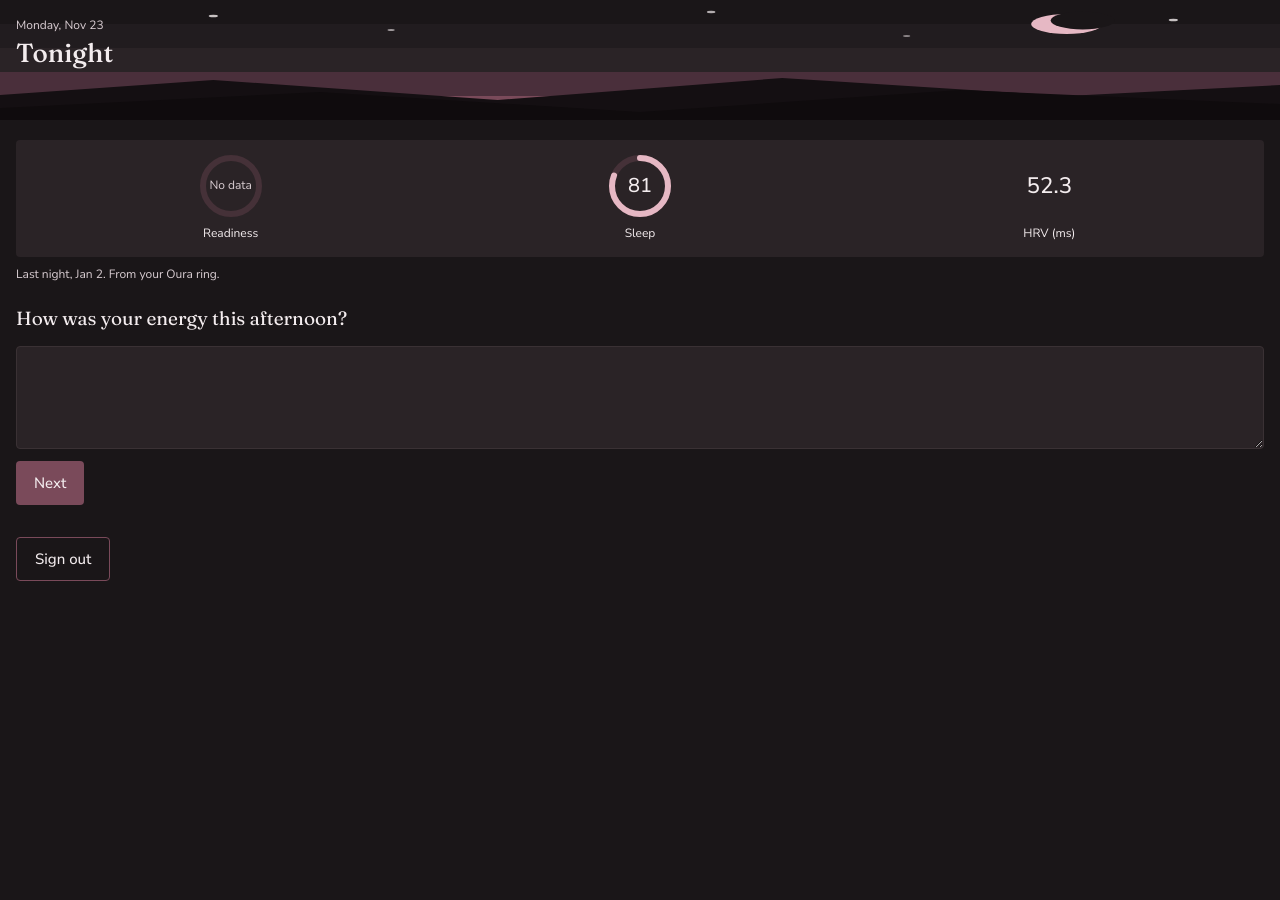
it: Tonight › tags › hides Suggest tags when off and says so
Step 1. Type "Flat until a 3pm espresso" into the text box labelled "How was your energy this afternoon?" → [640, 397], box left=16, top=346, right=1264, bottom=449
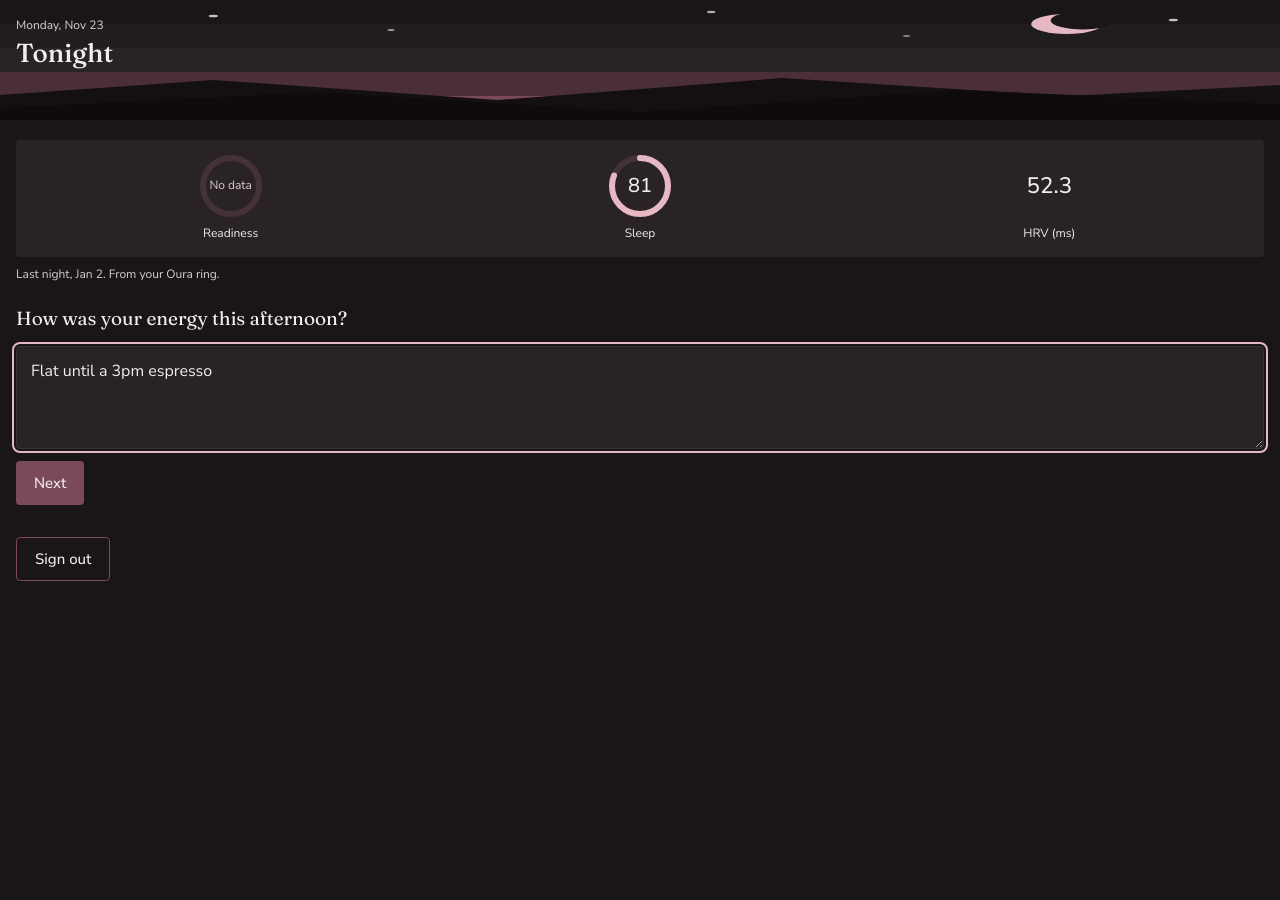
Step 2. Click the button "Next" → [50, 483], box left=16, top=461, right=84, bottom=505
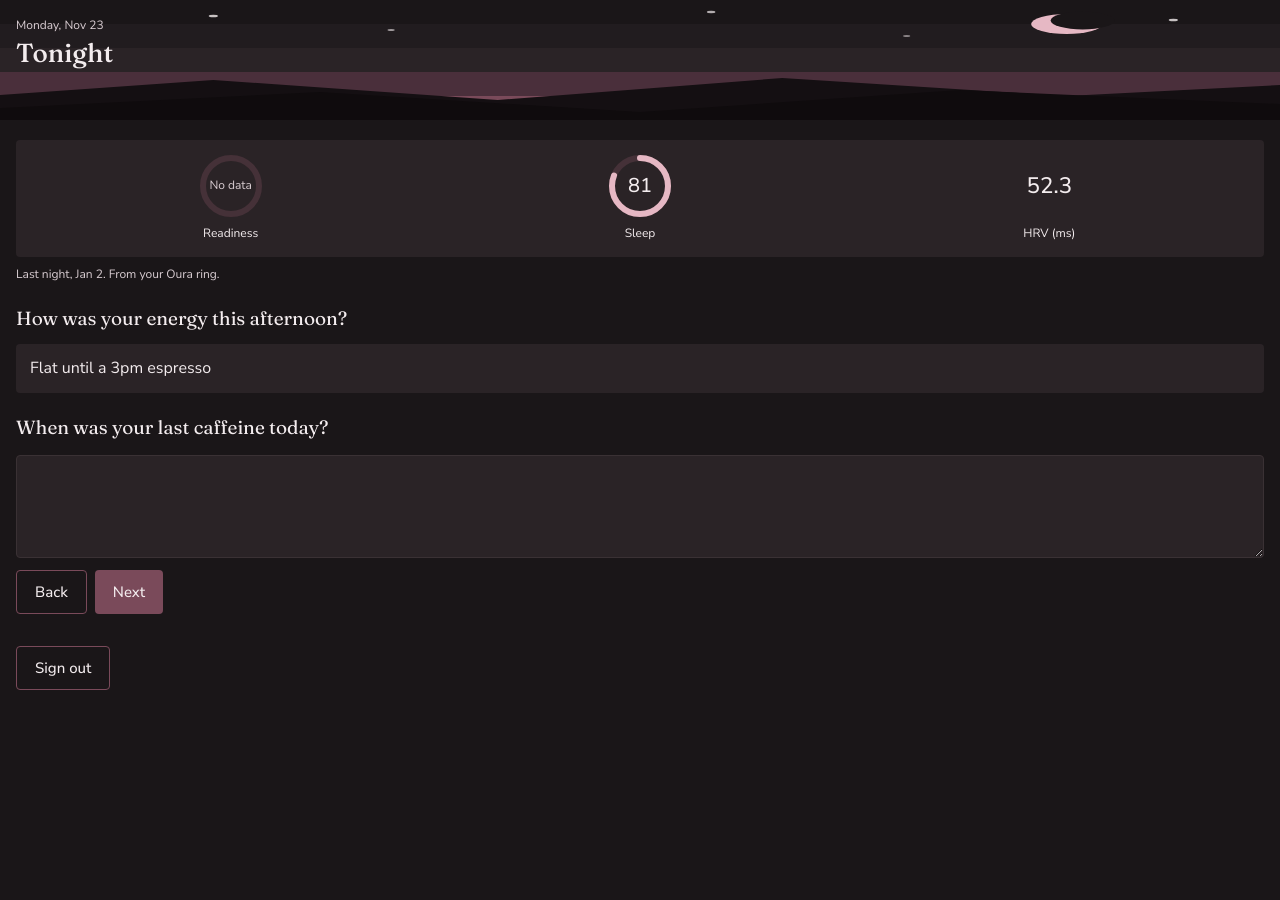
Step 3. Click the button "Next" → [129, 592], box left=95, top=570, right=163, bottom=614
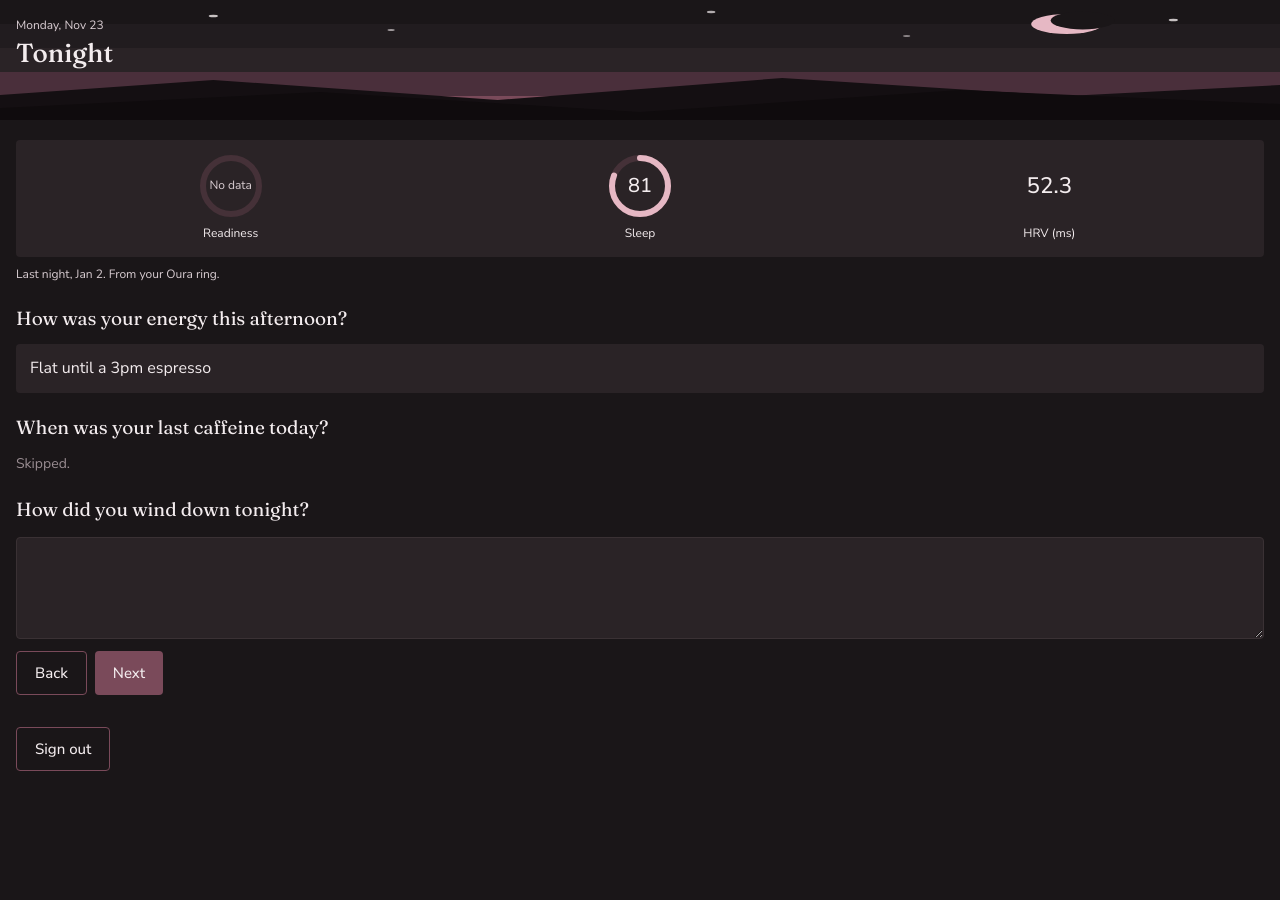
Step 4. Type "Reading" into the text box labelled "How did you wind down tonight?" → [640, 588], box left=16, top=537, right=1264, bottom=640
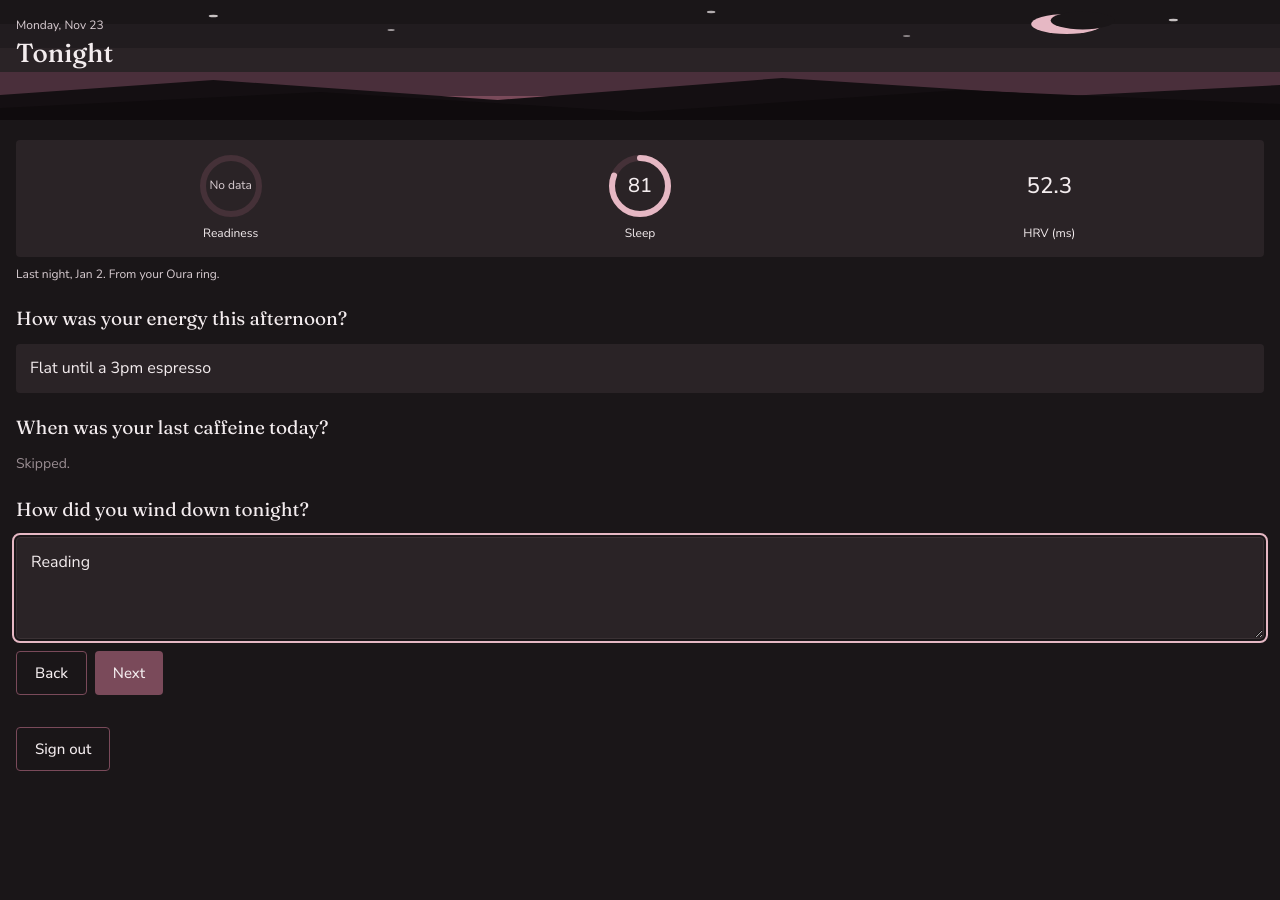
Step 5. Click the button "Next" → [129, 674], box left=95, top=652, right=163, bottom=696
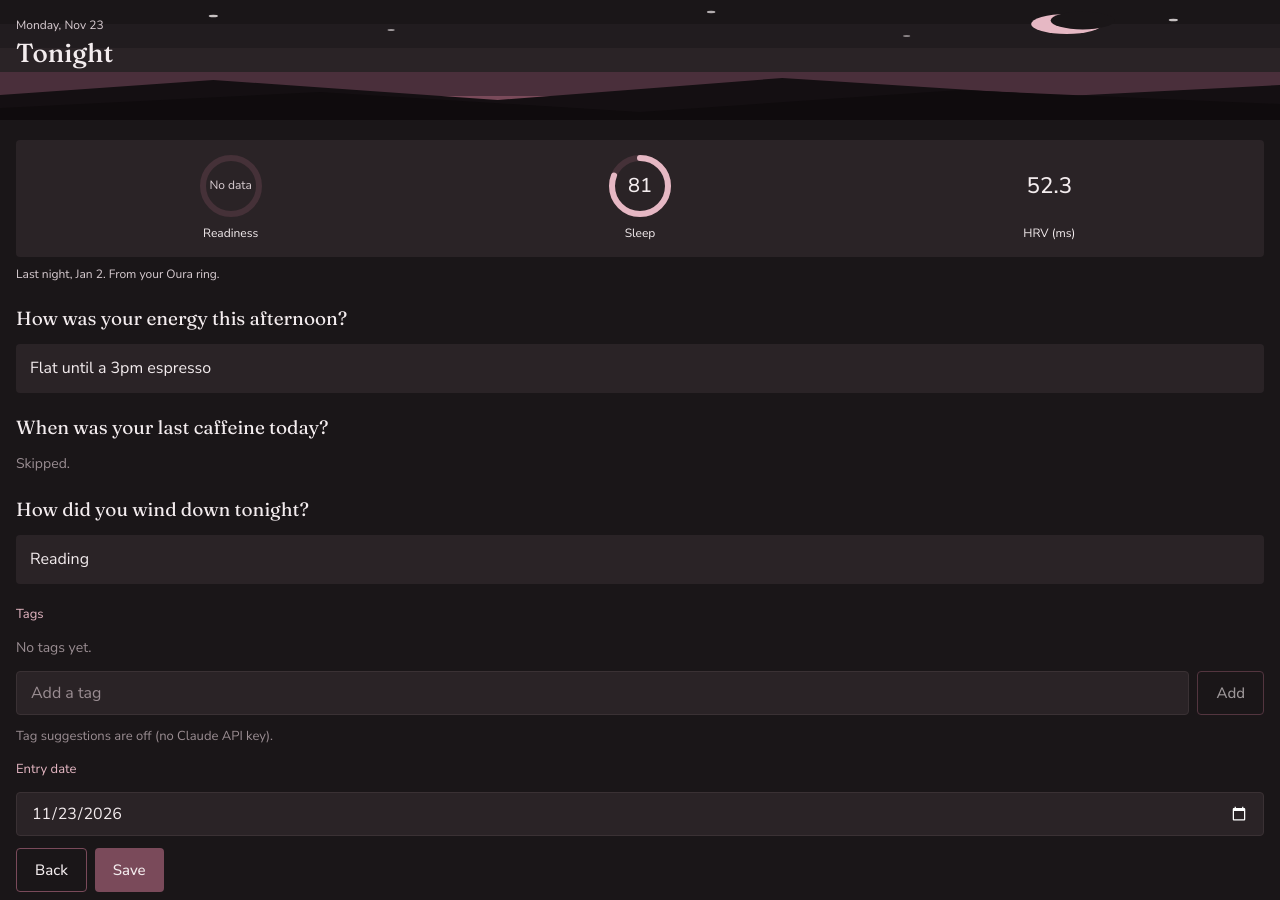
Now the element "Tags" is shown, box left=16, top=604, right=1264, bottom=892
Now the text "Tag suggestions are off (no Claude API key)." is shown, box left=16, top=728, right=273, bottom=746
